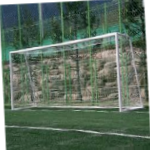goals: (9, 31, 145, 117)
